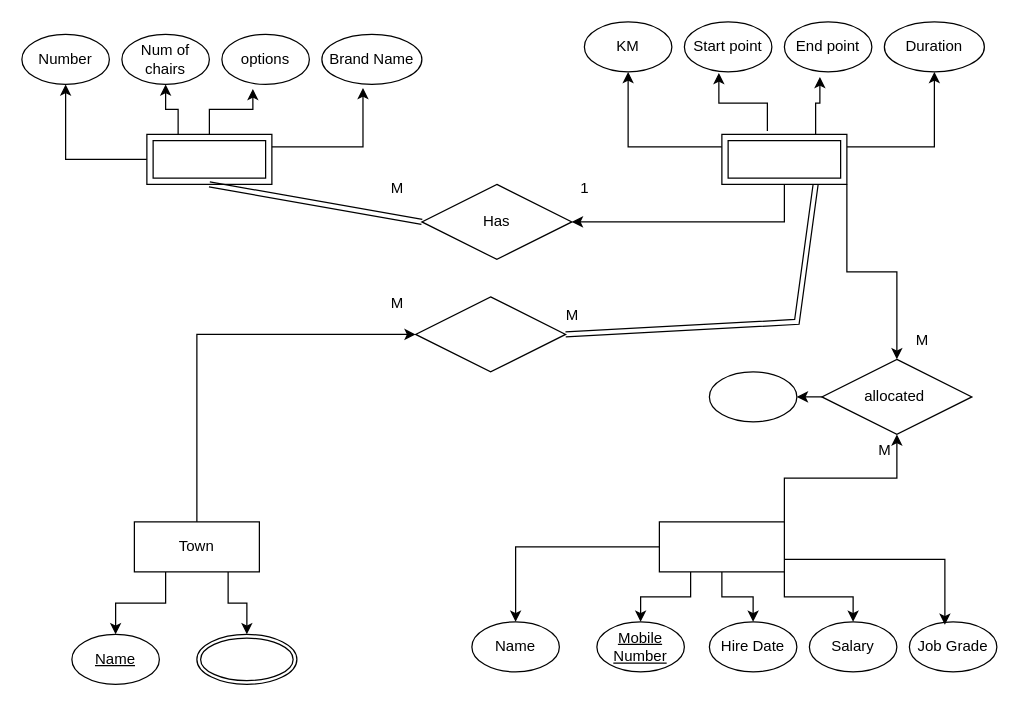
Image size: 1019x706. Some labels were removed from this diagram. Here are the shapes that lost their labels. From the top down, the box of each, then its label:
(146, 133, 272, 184): Bus
(721, 133, 847, 184): Route
(414, 296, 566, 372): Passes
(708, 371, 797, 422): period of time
(658, 521, 784, 572): Driver
(196, 633, 297, 684): Station
